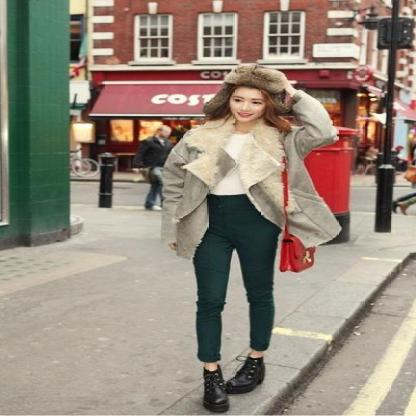bag: (276, 175, 315, 272)
hat: (212, 58, 280, 91)
jacket: (144, 92, 358, 260)
pants: (192, 191, 281, 362)
shirt: (215, 133, 261, 200)
shoe: (202, 356, 264, 414)
